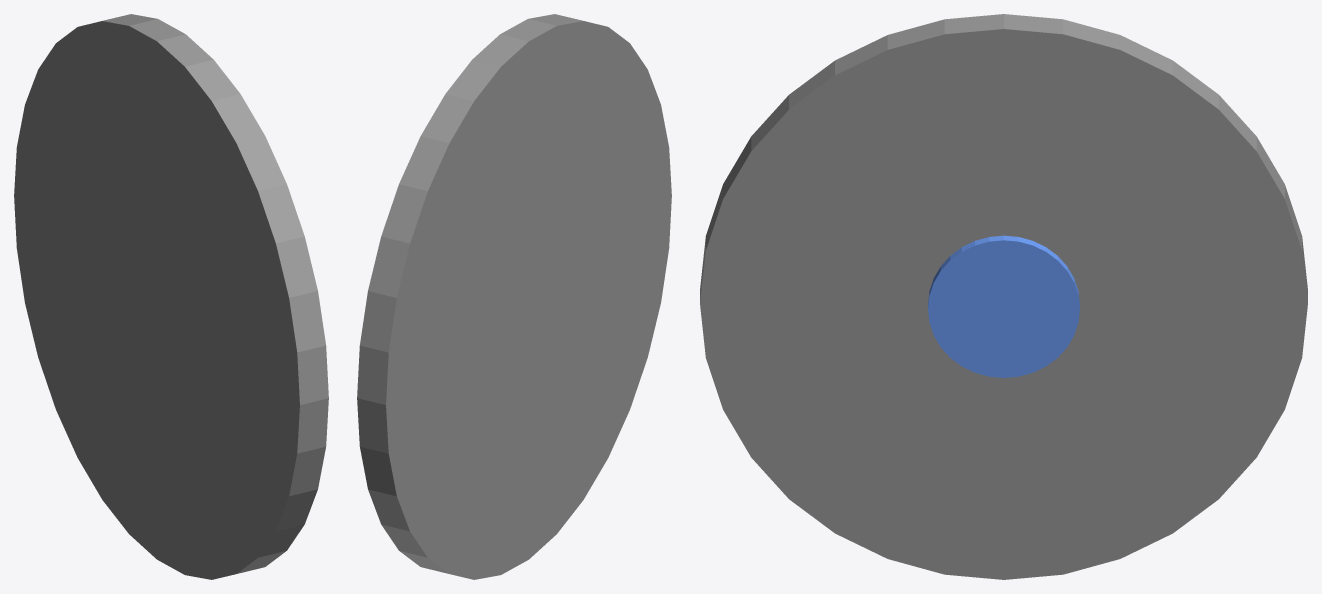
Rendered from alvo3.fbx.
The picture shows the model from 3 angles, left to right: view 1: azimuth 30°, elevation 25°; view 2: azimuth 150°, elevation 25°; view 3: azimuth 270°, elevation 25°; orthographic projection. The views are drawn at different scales.
Parts seen in each view (by area): view 1: Cylinder; view 2: Cylinder; view 3: Cylinder, Cylinder.001.
Part boxes in pixels (left/top/right/bottom): Cylinder: left=14, top=14, right=328, bottom=579; Cylinder: left=357, top=14, right=671, bottom=579; Cylinder: left=700, top=14, right=1307, bottom=579; Cylinder.001: left=928, top=235, right=1079, bottom=377.
Size of the model in its own units: 30.69 by 400 by 400.
